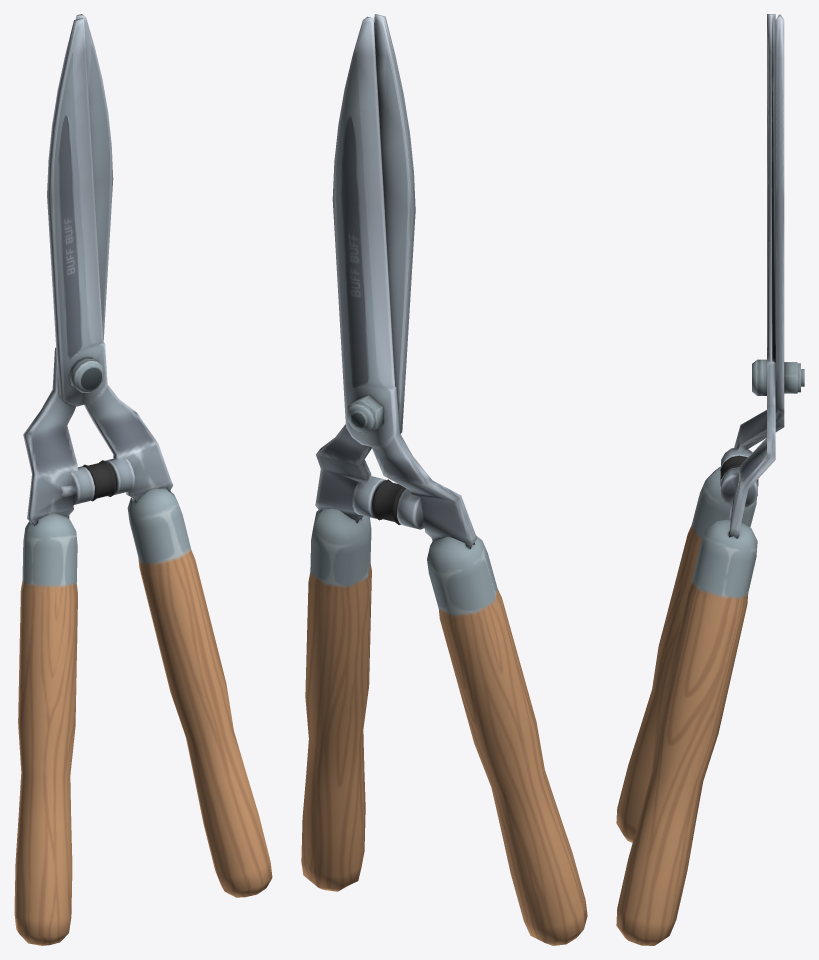
Rendered from ScissorsPruning.fbx.
3 renders of one model, left to right at view 1: azimuth 30°, elevation 25°; view 2: azimuth 150°, elevation 25°; view 3: azimuth 270°, elevation 25°, orthographic. The views are drawn at different scales.
Visible parts, largest first — view 1: ScissorsPruning; view 2: ScissorsPruning; view 3: ScissorsPruning.
Boxes of the visible parts, x1,y1,x2,y2 form: ScissorsPruning: [14, 14, 272, 945]; ScissorsPruning: [301, 14, 587, 945]; ScissorsPruning: [616, 14, 804, 945].
Bounding box in the file's own units: 0.2537 × 0.8277 × 0.1609.
